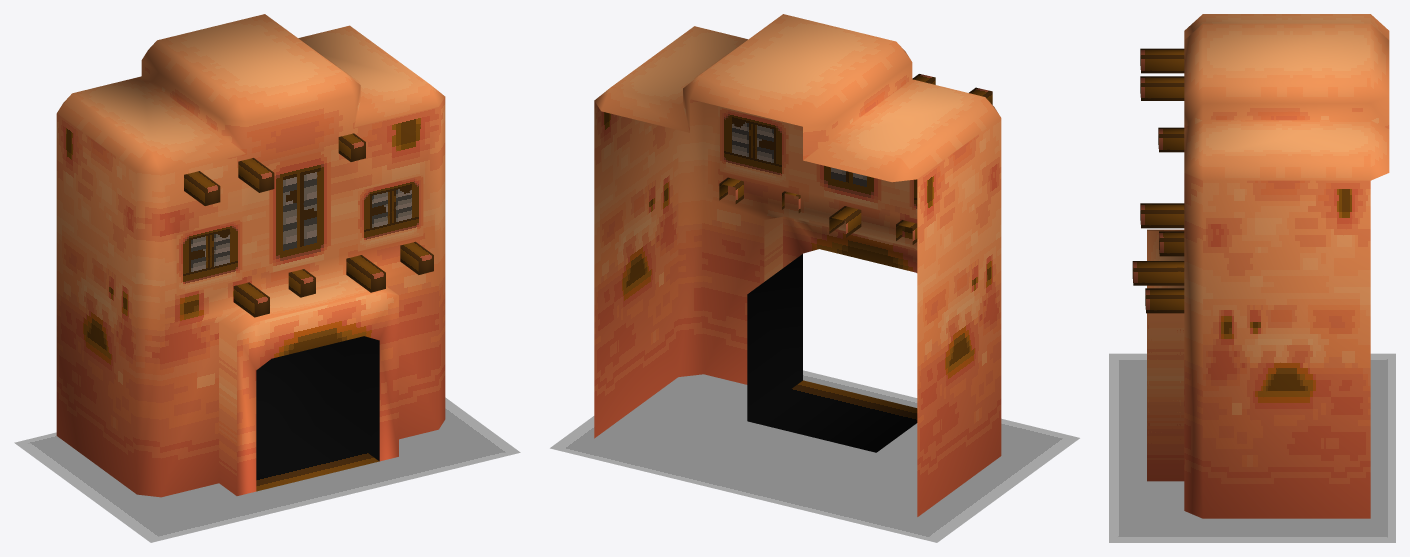
3 views of the same model, side by side, from view 1: azimuth 30°, elevation 25°; view 2: azimuth 150°, elevation 25°; view 3: azimuth 270°, elevation 25° (orthographic). The views are drawn at different scales.
Parts seen in each view (by area): view 1: polygon2, polygon0, polygon1; view 2: polygon2, polygon0, polygon1; view 3: polygon2, polygon0, polygon1.
Boxes of the visible parts, x1,y1,x2,y2 form: polygon2: [56, 60, 445, 497]; polygon0: [57, 14, 445, 491]; polygon1: [14, 397, 520, 542]; polygon2: [594, 63, 1001, 516]; polygon0: [594, 14, 1000, 452]; polygon1: [550, 370, 1079, 542]; polygon2: [1147, 96, 1389, 518]; polygon0: [1132, 14, 1389, 313]; polygon1: [1109, 353, 1395, 542].
Bounding box in the file's own units: 6 × 5.88 × 3.84.
